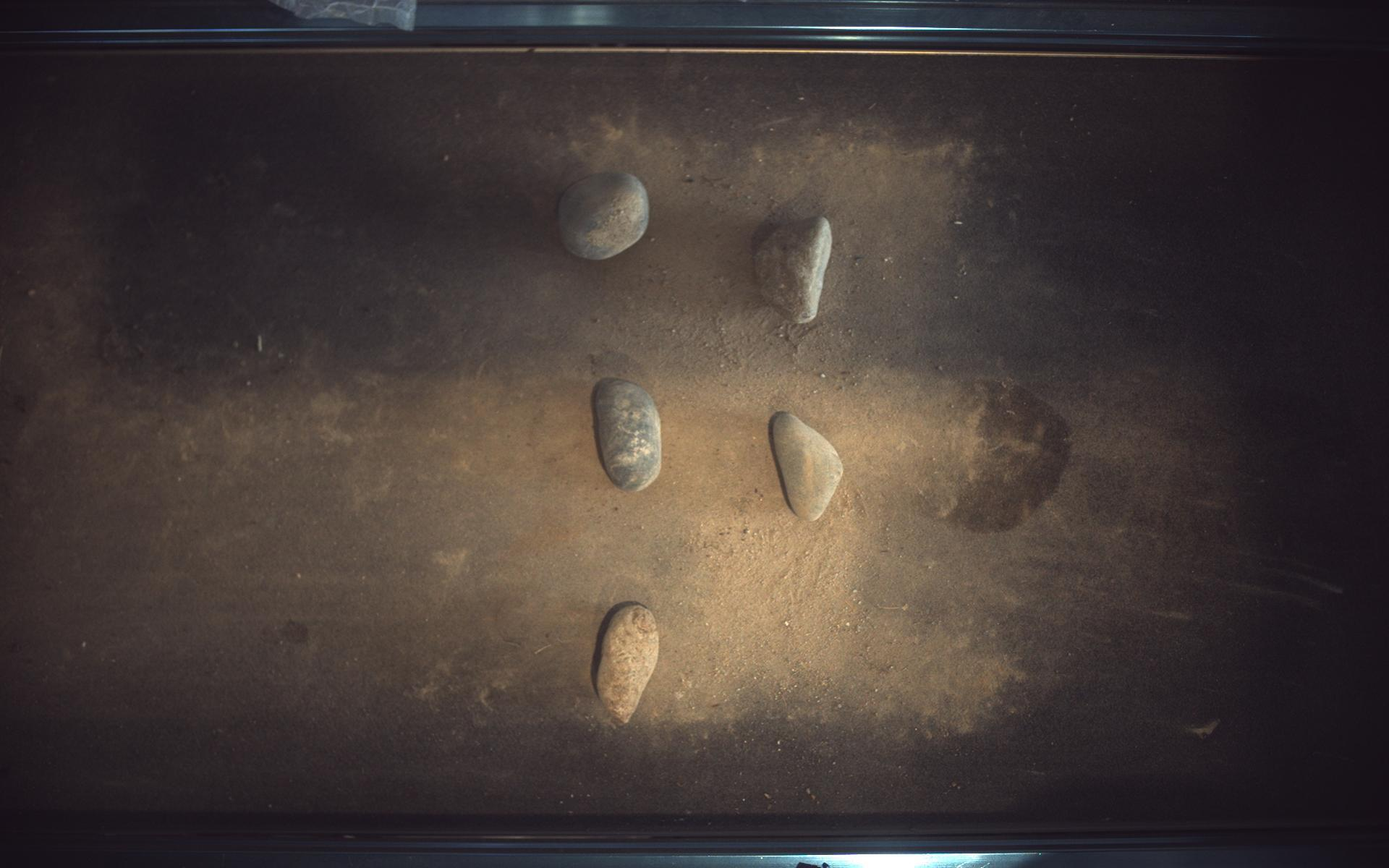stone: (755, 216, 833, 323), (558, 171, 650, 260), (593, 378, 663, 492), (595, 604, 660, 725), (773, 412, 844, 521)
